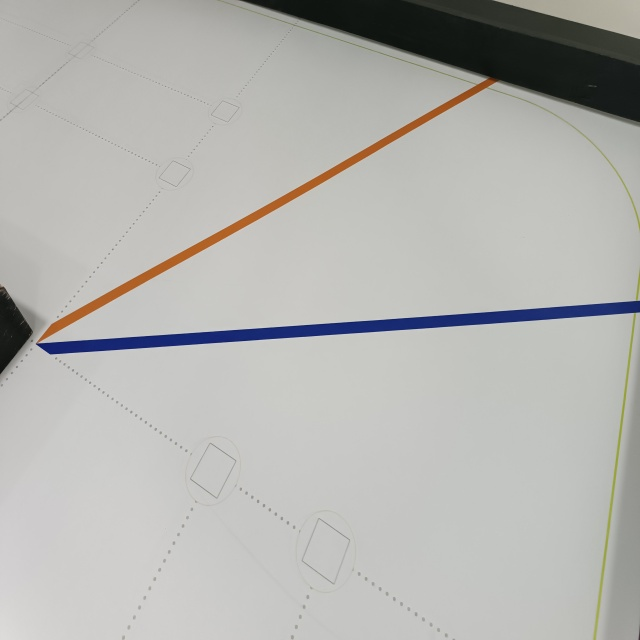blue line: (33, 293, 640, 366)
orange line: (35, 72, 503, 348)
